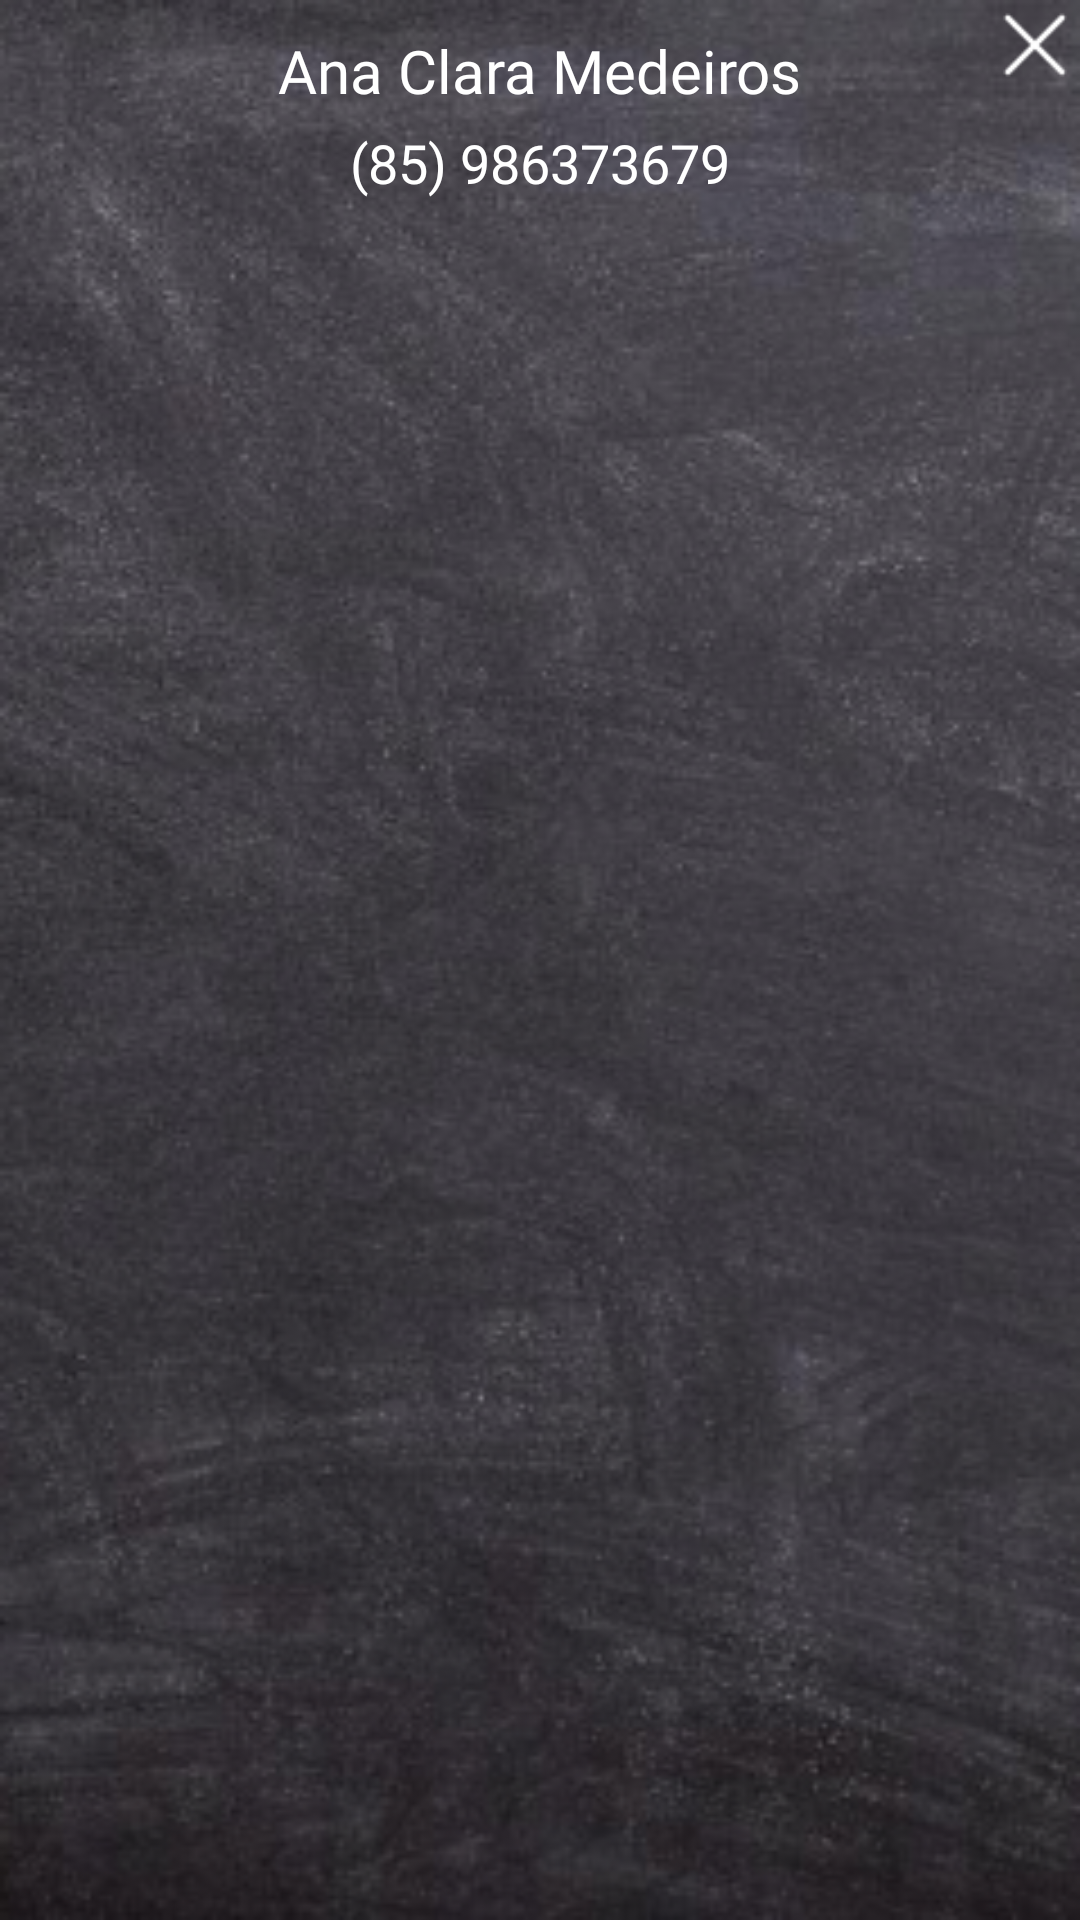

Point at icon controls on the screen. Image size 1080×1920, points as point (x, y).
fechar: point (1035, 49)
